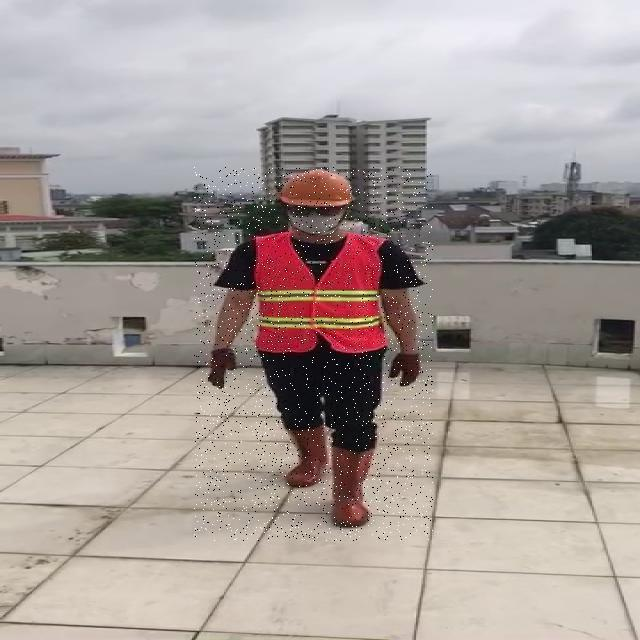gloves: (206, 348, 238, 390), (388, 350, 424, 387)
goggles: (285, 206, 348, 217)
helmet: (274, 167, 359, 208)
safety_vest: (256, 233, 391, 354)
